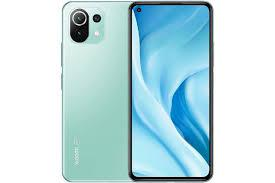Smartphone: (127, 4, 210, 182), (63, 2, 130, 182)
